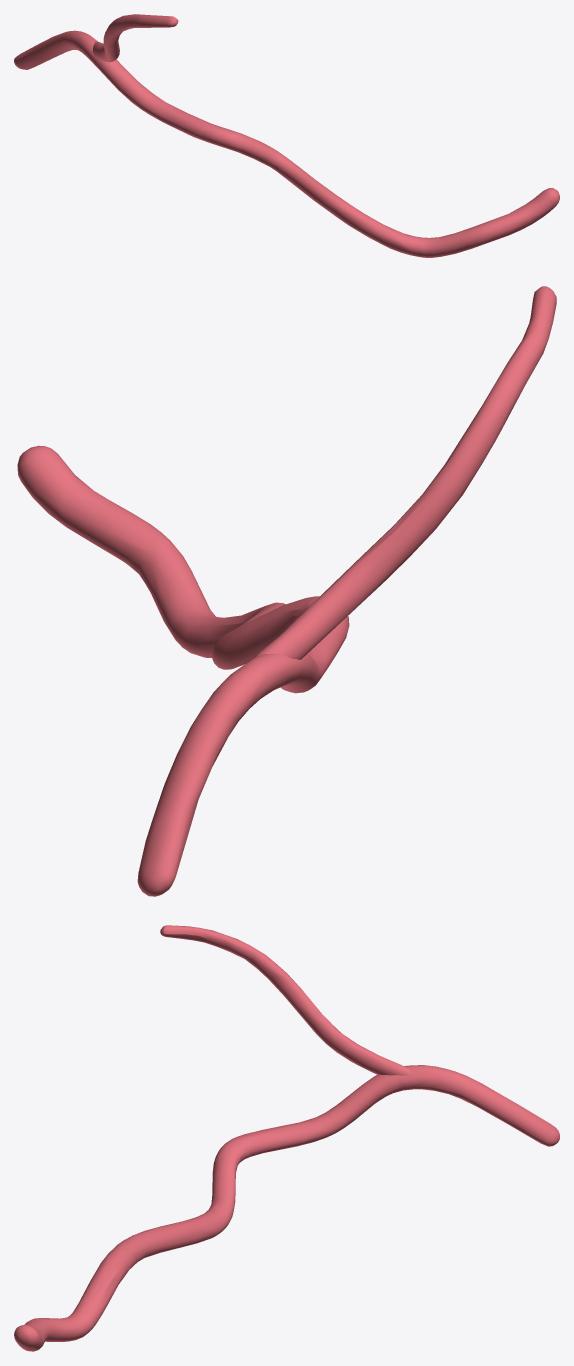
The model's file is fma50986_cx107.glb.
The picture shows the model from 3 angles, top to bottom: view 1: azimuth 30°, elevation 25°; view 2: azimuth 150°, elevation 25°; view 3: azimuth 270°, elevation 25°; orthographic projection. The views are drawn at different scales.
Visible parts, largest first — view 1: FMA50986_CX107; view 2: FMA50986_CX107; view 3: FMA50986_CX107.
Boxes of the visible parts, left/top/right/bottom form: FMA50986_CX107: left=14, top=14, right=559, bottom=257; FMA50986_CX107: left=17, top=286, right=556, bottom=896; FMA50986_CX107: left=14, top=925, right=559, bottom=1351.
Bounding box in the file's own units: 0.0484 × 0.0355 × 0.0597.
